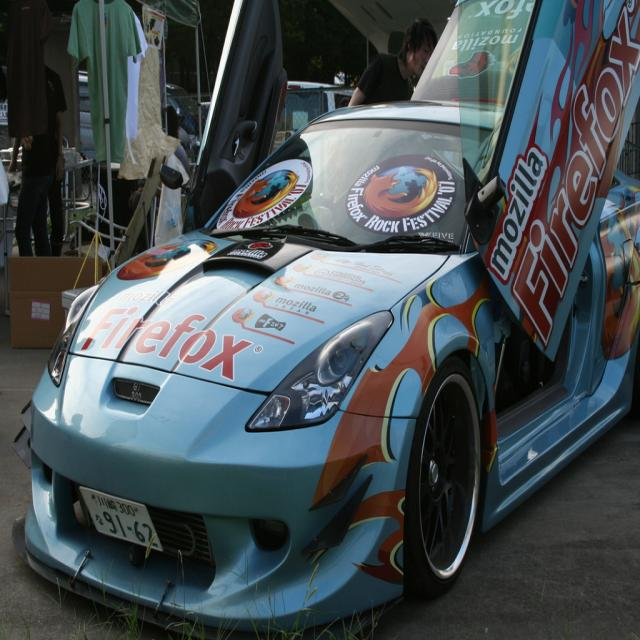other: (12, 0, 639, 639)
